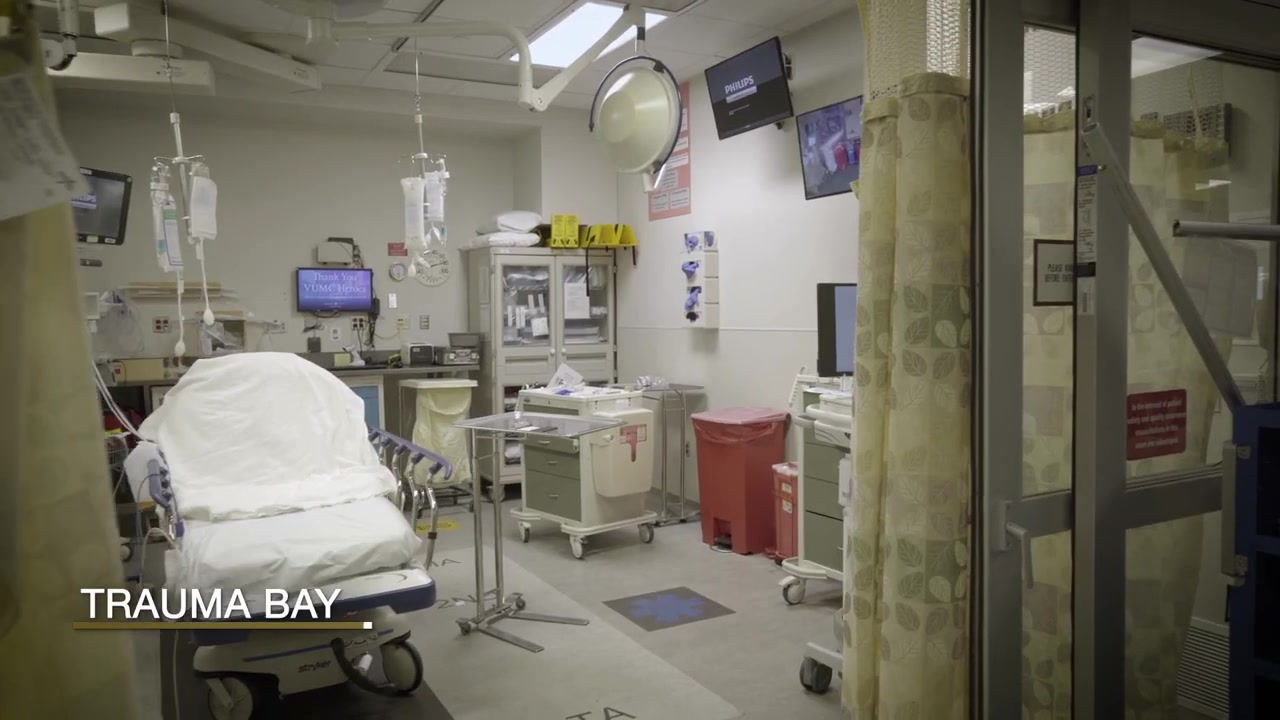TV: (703, 35, 795, 142), (790, 94, 864, 201)
bedrail: (365, 420, 454, 570), (147, 459, 185, 553)
bedside_monitor: (74, 167, 133, 245)
cabinet: (463, 247, 599, 490)
computer: (296, 267, 374, 314)
curtain: (847, 1, 1242, 720)
dispenser: (680, 230, 723, 328)
door_handle: (999, 497, 1039, 589)
handle: (544, 457, 560, 467), (534, 439, 553, 447), (545, 492, 563, 500), (550, 348, 558, 358), (562, 348, 568, 356)
keyboard: (323, 364, 388, 370)
medical_drawer: (512, 382, 657, 558), (780, 374, 853, 606)
medical_waste_container: (591, 405, 655, 497)
mouse: (392, 361, 404, 369)
operating_bed: (130, 353, 453, 720)
overbed_table: (450, 405, 627, 652)
surgical_light: (591, 56, 680, 193)
utility_cart: (604, 379, 706, 526)
waste_bin: (690, 403, 789, 557), (397, 375, 477, 520), (772, 459, 797, 566)
